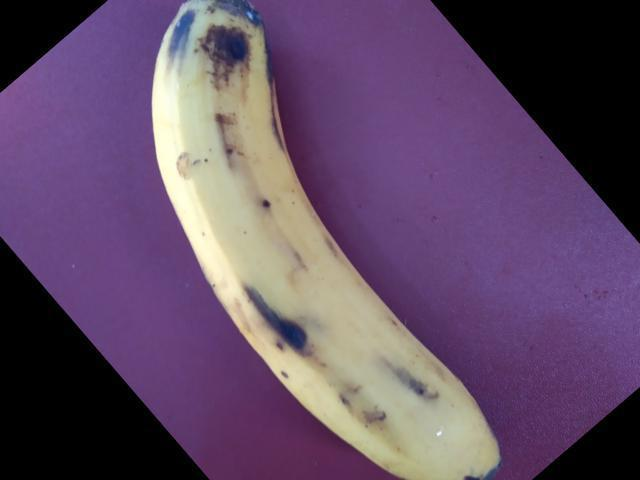ripe: (141, 0, 511, 479)
